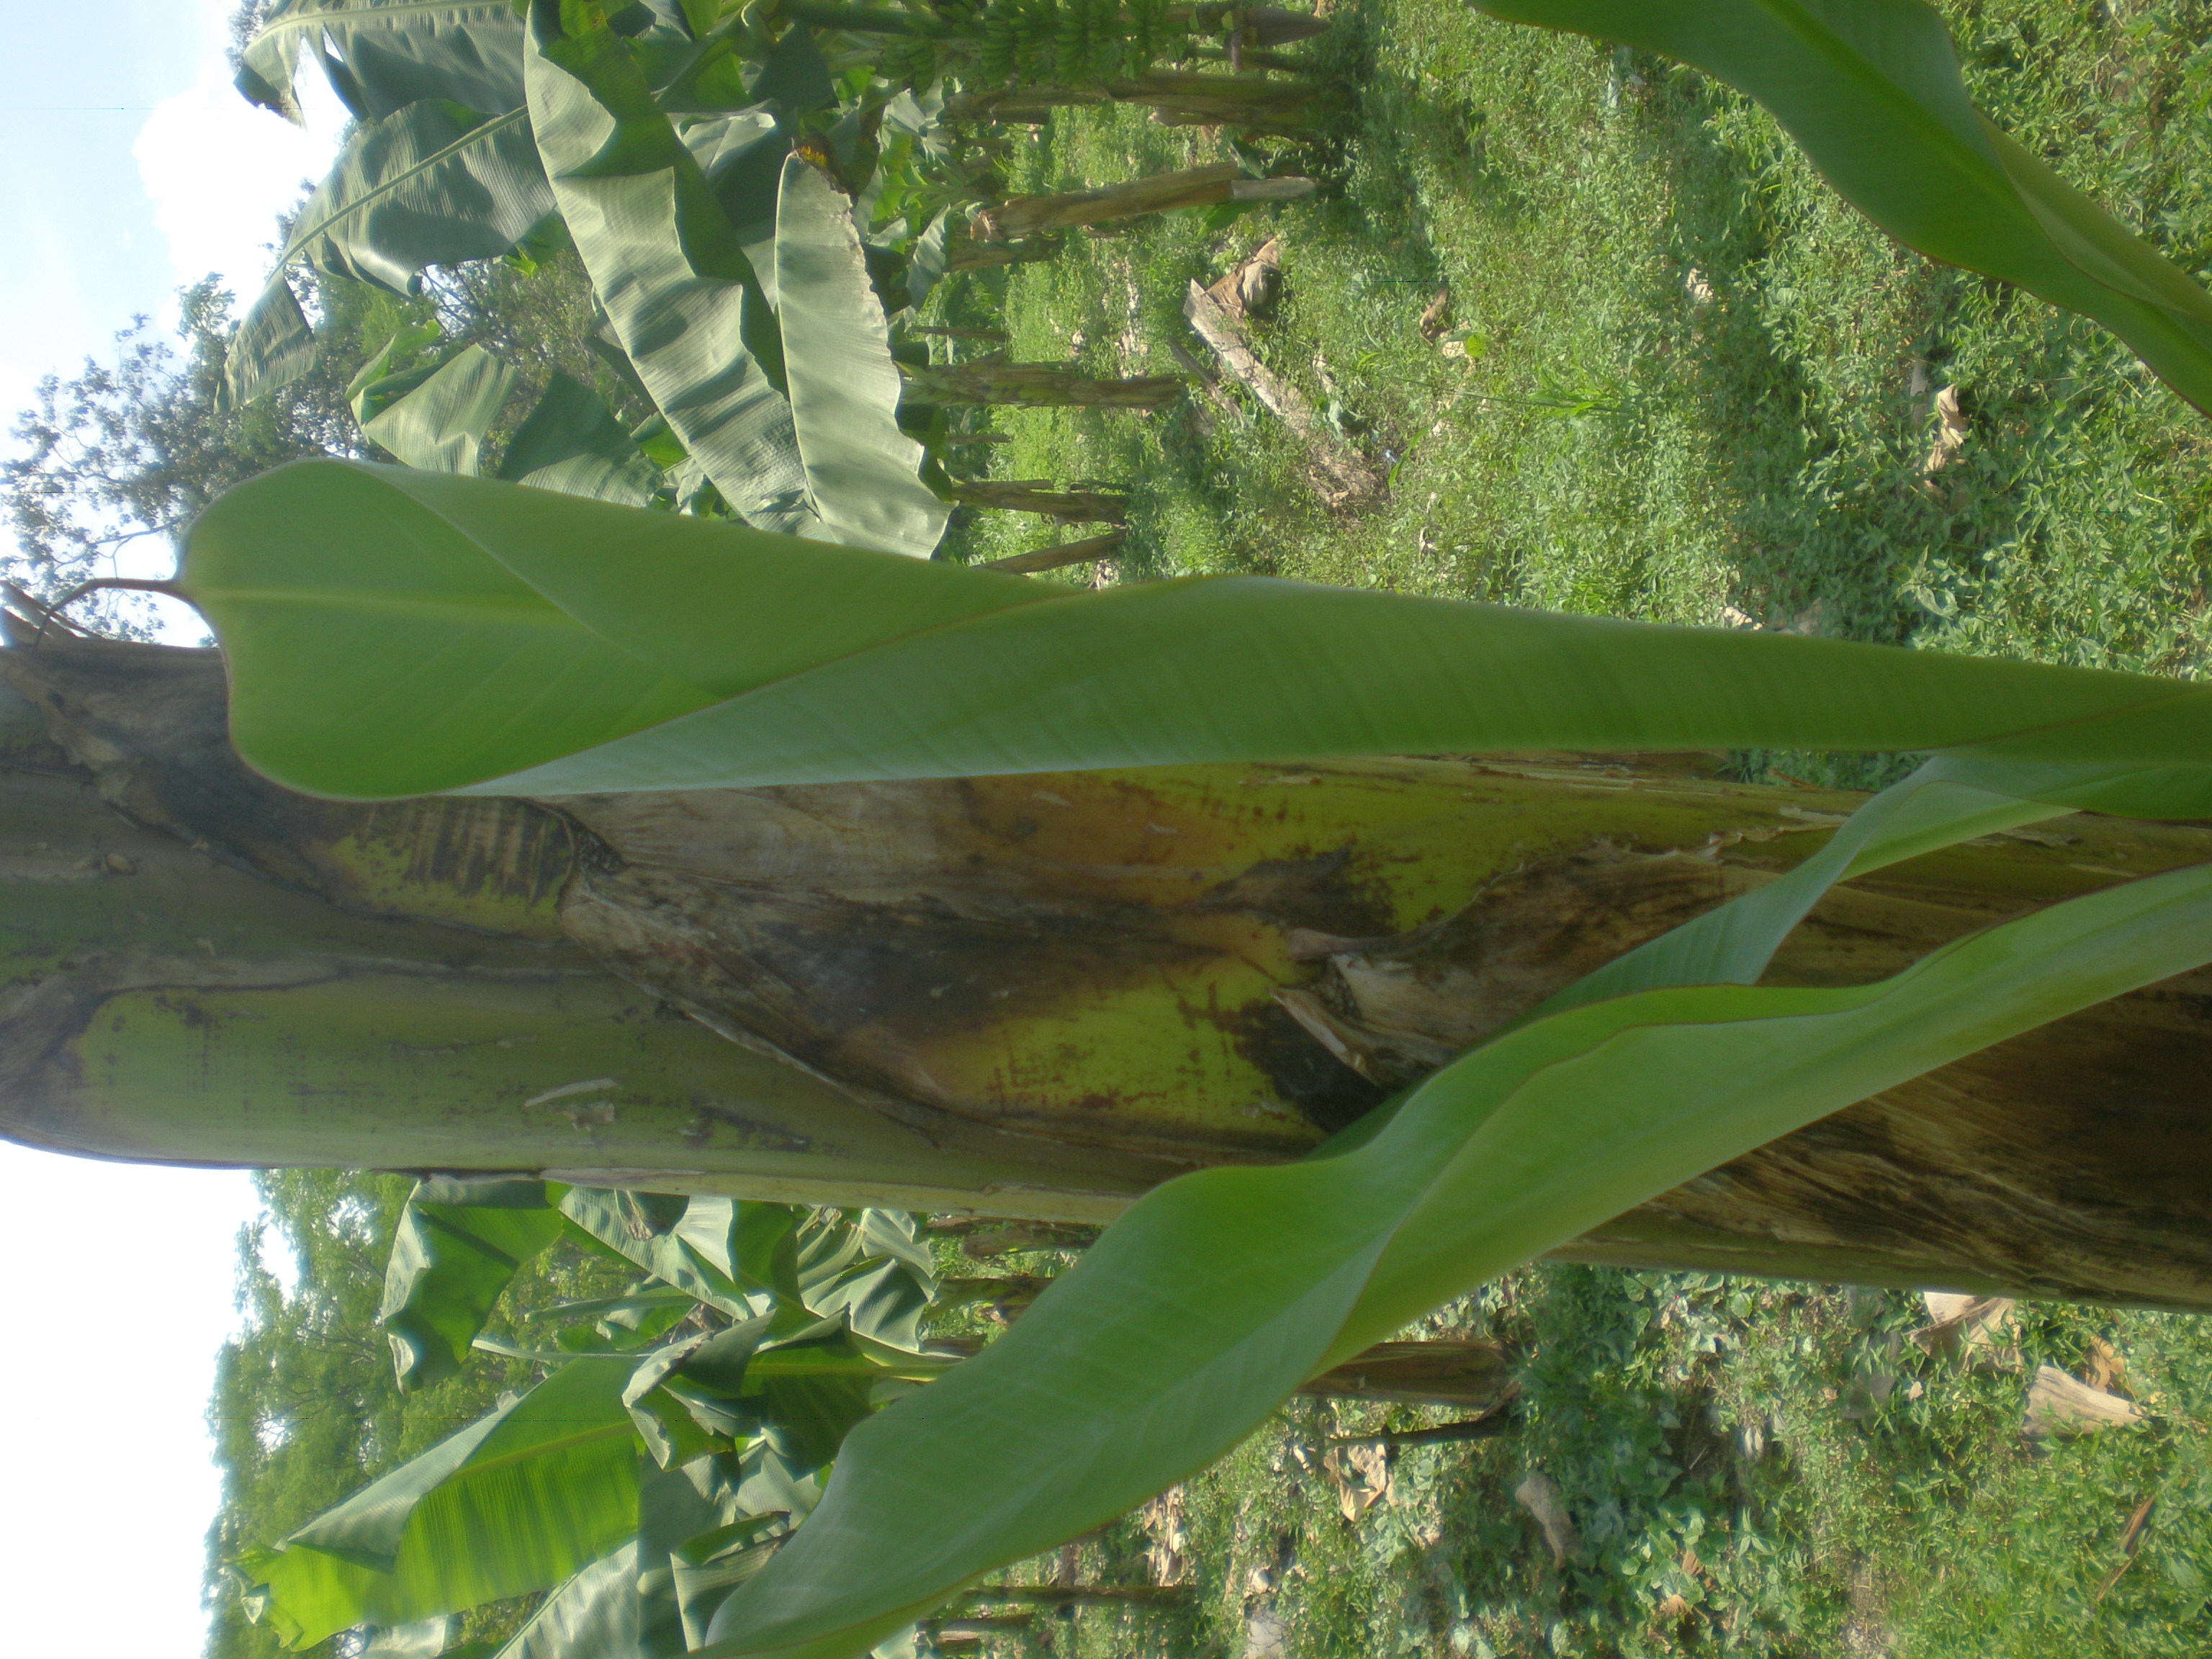candleleafs: (33, 458, 2212, 809)
